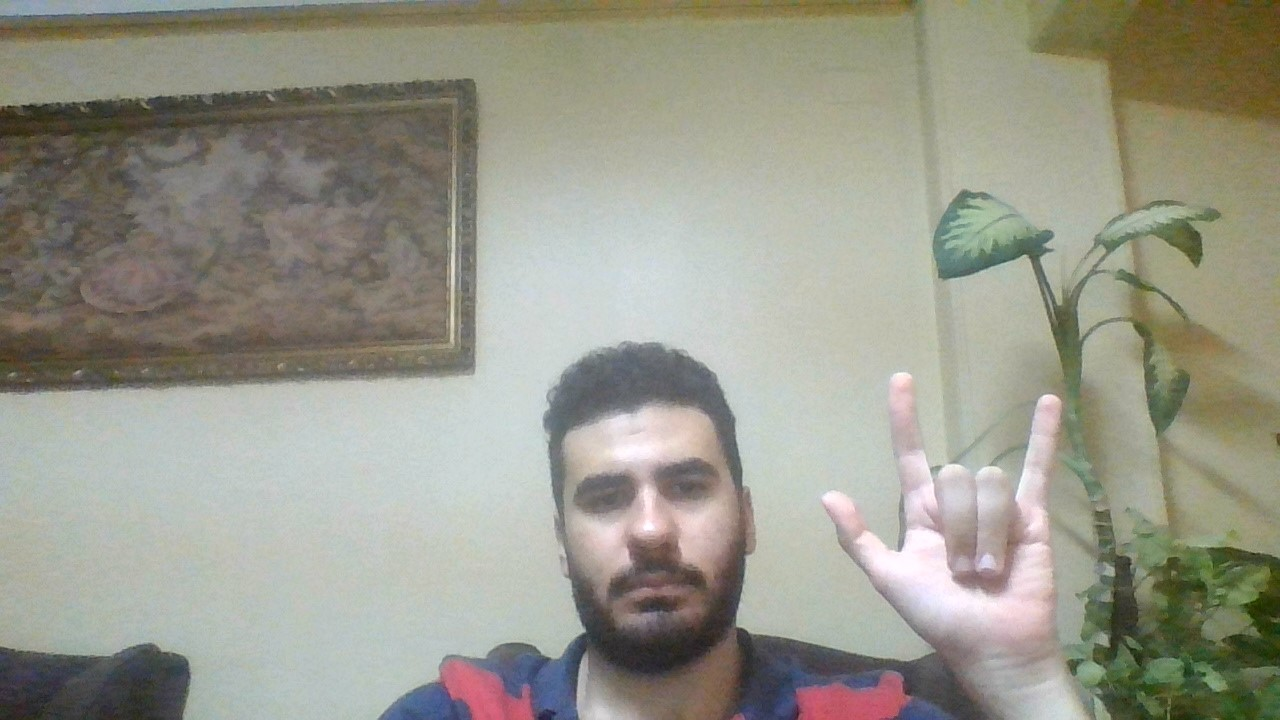love: (812, 358, 1098, 655)
